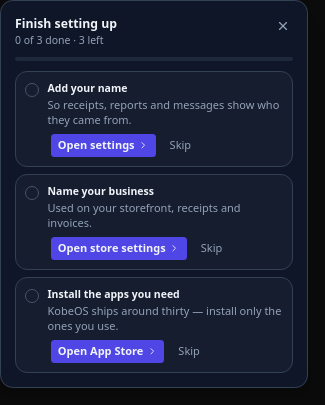
Test: OnboardingChecklist › skips a step and takes the server's answer as the new state
This screenshot has width=325, height=405.
Expected: the text "Add your name" is shown, [48, 81, 127, 95]
Click the button "Skip" below "Add your name": click(180, 146) [163, 134, 198, 157]
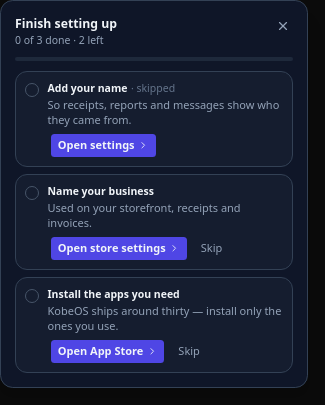
Now the text "· skipped" is shown, box [131, 81, 175, 95]
